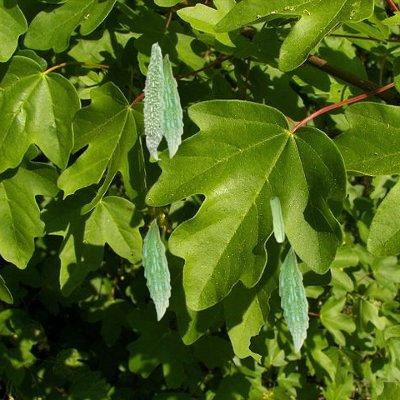ampalaya: (278, 245, 309, 353), (142, 218, 171, 321), (142, 41, 165, 160), (163, 53, 184, 159), (269, 196, 285, 243)
